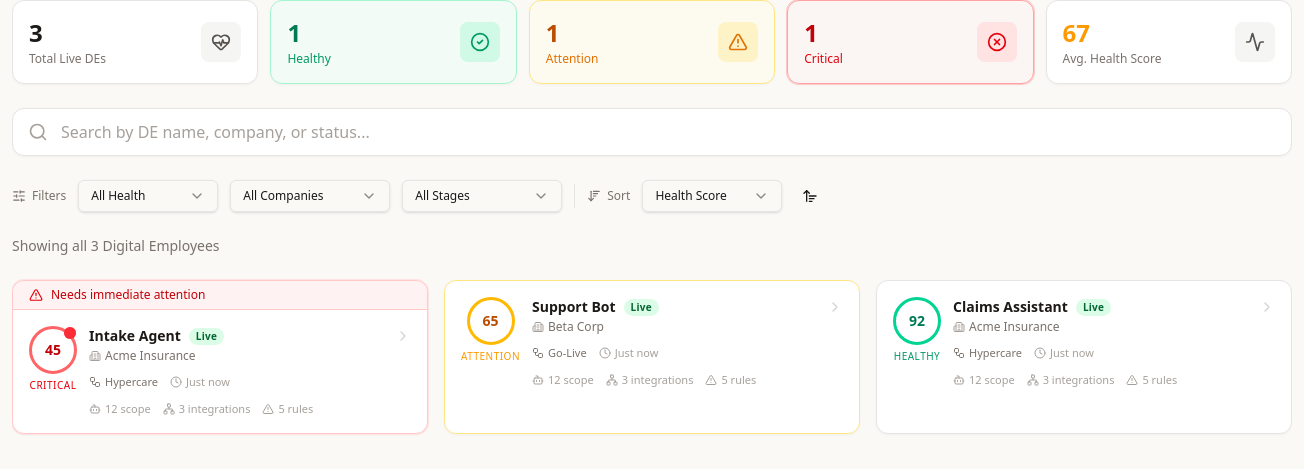
Test: SupportDashboardClient › shows filtered count when search is active
In the field with placeholder "Search by DE name, company, or status...": (652, 132) [12,108,1292,156], type "Claims"
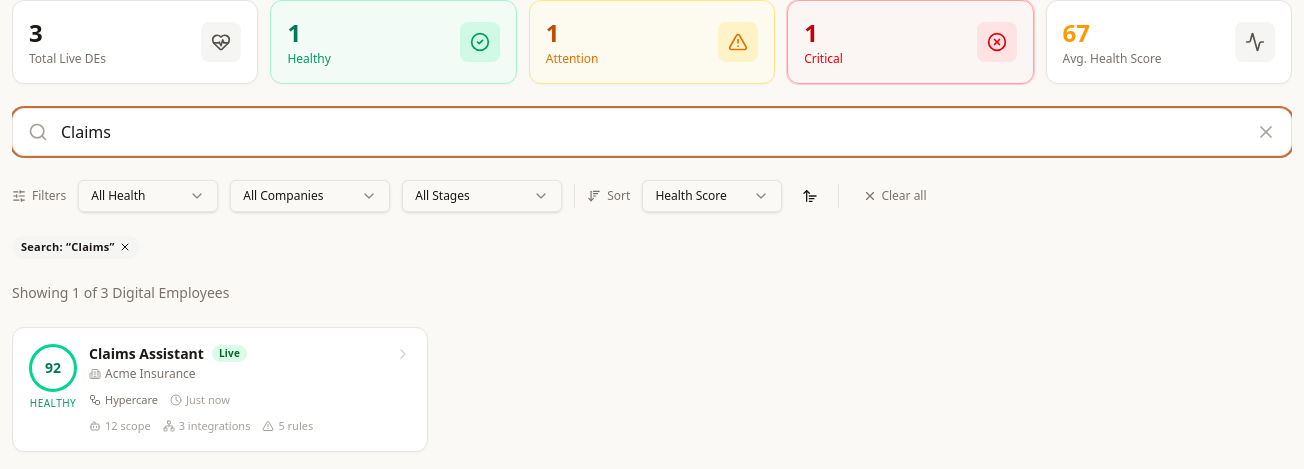
Check: the text "Showing 1 of 3 Digital Employees" is shown, box [12,282,229,302]
